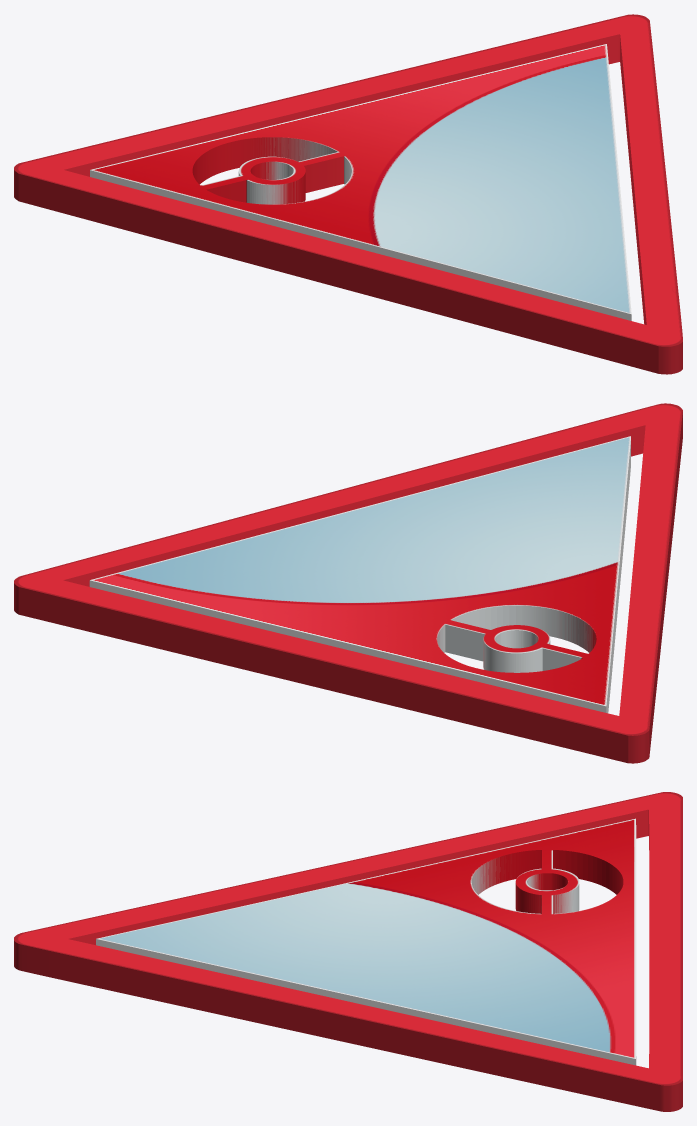
3 renders of one model, top to bottom at view 1: azimuth 30°, elevation 25°; view 2: azimuth 150°, elevation 25°; view 3: azimuth 270°, elevation 25°, orthographic. The views are drawn at different scales.
Visible parts, largest first — view 1: path1587; view 2: path1587; view 3: path1587.
Part boxes in pixels (x1=…): path1587: x1=14, y1=14, x2=682, y2=374; path1587: x1=14, y1=403, x2=682, y2=763; path1587: x1=14, y1=792, x2=682, y2=1111.
Bounding box in the file's own units: 71.54 × 3 × 68.93.
1 material, 1 textured.
